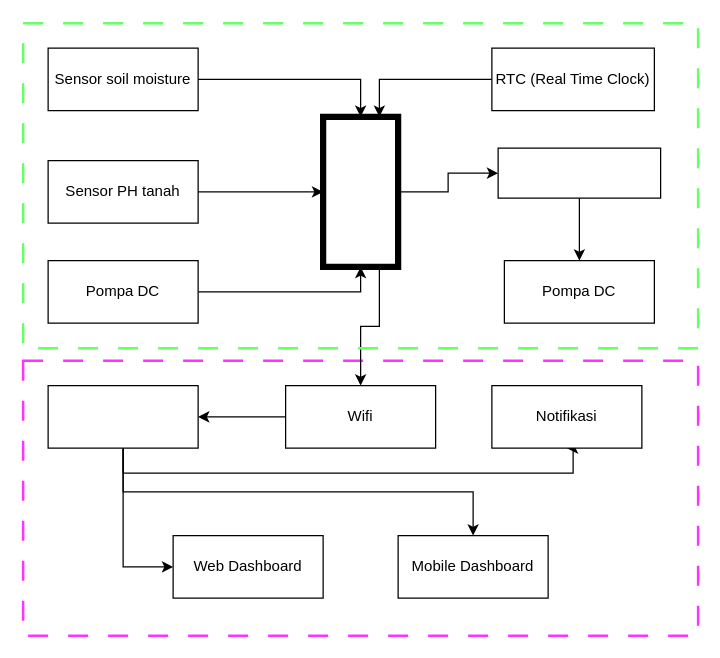
The diagram is 720 pixels wide and 658 high, and some of its shapes have lost their labels. The shapes that lost their labels are listed below. From the top down, each one's centre as x and y in pixels, then its label:
At (x=360, y=191): "ESP32".
At (x=579, y=172): "Relay".
At (x=122, y=416): "Blynk Server".
